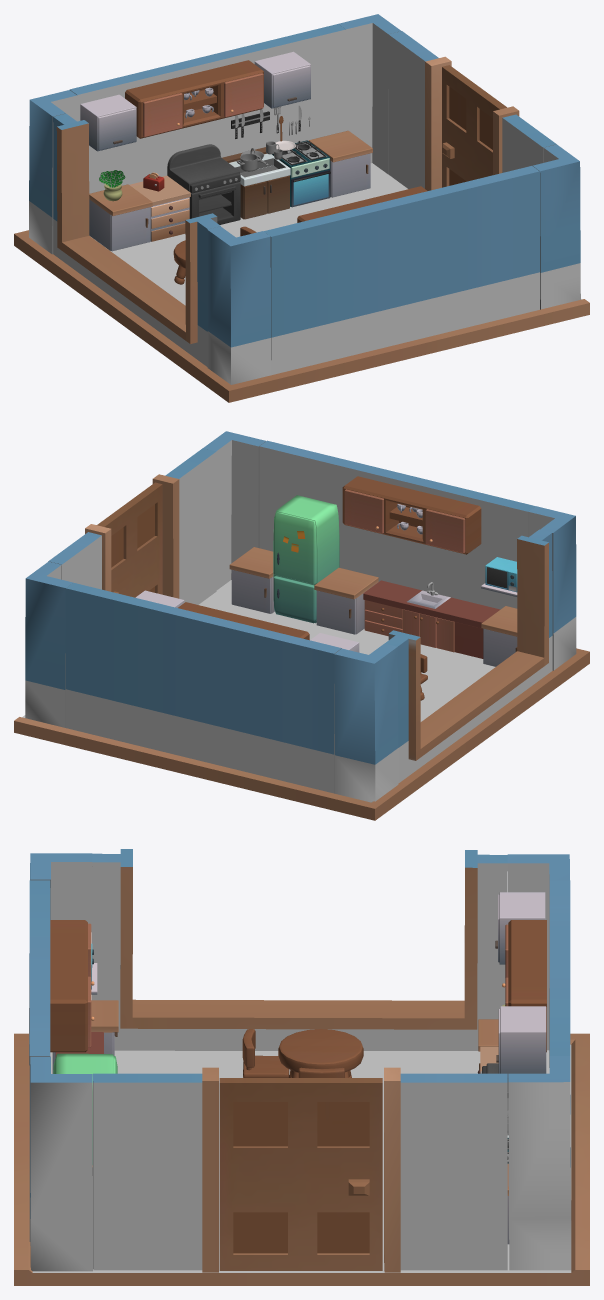
The model's file is COCINA.fbx.
3 views of the same model, one above another, from view 1: azimuth 30°, elevation 25°; view 2: azimuth 150°, elevation 25°; view 3: azimuth 270°, elevation 25° (orthographic). The views are drawn at different scales.
Parts seen in each view (by area): view 1: paret_basica23, muebles_cocina_3, suelo10, paret_basica22, paret_con_ventana_grande21, muebles_cocina_paret2, paret_puerta48, paret_esquina30, paret_esquina_83, paret_esquina_75, puerta32, paret_esquina34 (+5 smaller); view 2: paret_basica22, paret_basica23, suelo10, mueble_cocina_4, paret_con_ventana_grande21, paret_puerta48, paret_esquina34, mueble_paret_4, nevera2, paret_esquina_75, paret_esquina_83, puerta32 (+3 smaller); view 3: paret_puerta48, puerta32, paret_con_ventana_grande21, suelo10, paret_esquina_83, paret_esquina_75, muebles_cocina_paret2, mueble_paret_4, mesa_con_cadiras2, paret_basica23, paret_basica22, paret_esquina30 (+4 smaller).
Boxes of the visible parts, x1=… form: paret_basica23: x1=264, y1=166, x2=539, y2=375; muebles_cocina_3: x1=89, y1=130, x2=372, y2=251; suelo10: x1=14, y1=163, x2=589, y2=402; paret_basica22: x1=69, y1=24, x2=345, y2=193; paret_con_ventana_grande21: x1=53, y1=113, x2=220, y2=366; muebles_cocina_paret2: x1=80, y1=51, x2=310, y2=151; paret_puerta48: x1=388, y1=31, x2=556, y2=190; paret_esquina30: x1=207, y1=226, x2=271, y2=384; paret_esquina_83: x1=532, y1=144, x2=580, y2=309; paret_esquina_75: x1=338, y1=14, x2=401, y2=173; puerta32: x1=442, y1=65, x2=506, y2=187; paret_esquina34: x1=29, y1=90, x2=77, y2=254; paret_basica22: x1=65, y1=582, x2=341, y2=793; paret_basica23: x1=259, y1=440, x2=535, y2=609; suelo10: x1=14, y1=580, x2=589, y2=820; mueble_cocina_4: x1=229, y1=547, x2=517, y2=666; paret_con_ventana_grande21: x1=385, y1=529, x2=552, y2=783; paret_puerta48: x1=48, y1=448, x2=216, y2=604; paret_esquina34: x1=334, y1=643, x2=398, y2=802; mueble_paret_4: x1=342, y1=476, x2=481, y2=554; nevera2: x1=273, y1=495, x2=339, y2=623; paret_esquina_75: x1=25, y1=561, x2=72, y2=727; paret_esquina_83: x1=203, y1=431, x2=265, y2=589; puerta32: x1=97, y1=482, x2=162, y2=597; paret_puerta48: x1=93, y1=1067, x2=507, y2=1272; puerta32: x1=219, y1=1078, x2=382, y2=1270; paret_con_ventana_grande21: x1=91, y1=849, x2=507, y2=1050; suelo10: x1=14, y1=1033, x2=589, y2=1285; paret_esquina_83: x1=30, y1=1056, x2=92, y2=1271; paret_esquina_75: x1=508, y1=1056, x2=571, y2=1270; muebles_cocina_paret2: x1=495, y1=892, x2=546, y2=1078; mueble_paret_4: x1=50, y1=920, x2=94, y2=1052; mesa_con_cadiras2: x1=242, y1=1029, x2=363, y2=1077; paret_basica23: x1=29, y1=880, x2=50, y2=1241; paret_basica22: x1=549, y1=880, x2=570, y2=1055; paret_esquina30: x1=29, y1=853, x2=92, y2=1065.
Size of the model in its own units: 899 by 360 by 918.
